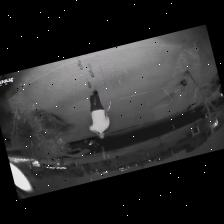person: (89, 90, 109, 137)
